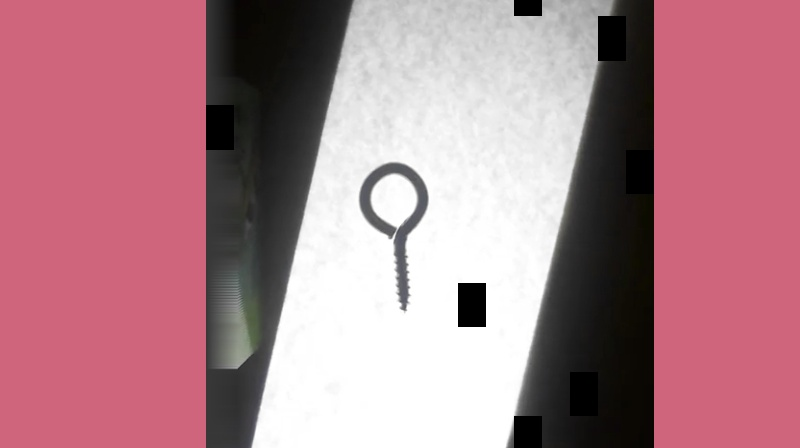O001: (356, 158, 429, 316)
